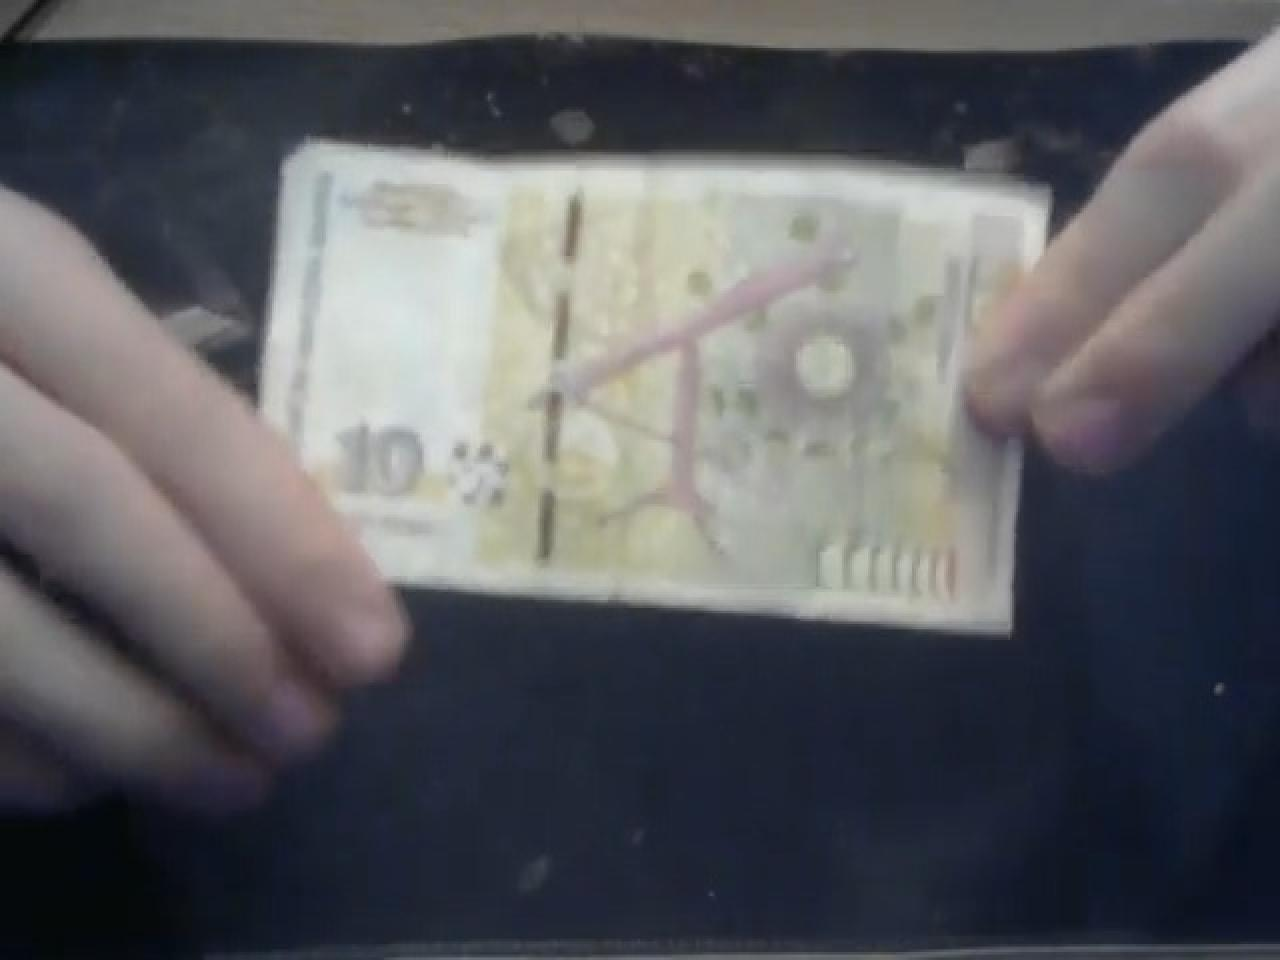10leva: (248, 139, 1054, 642)
